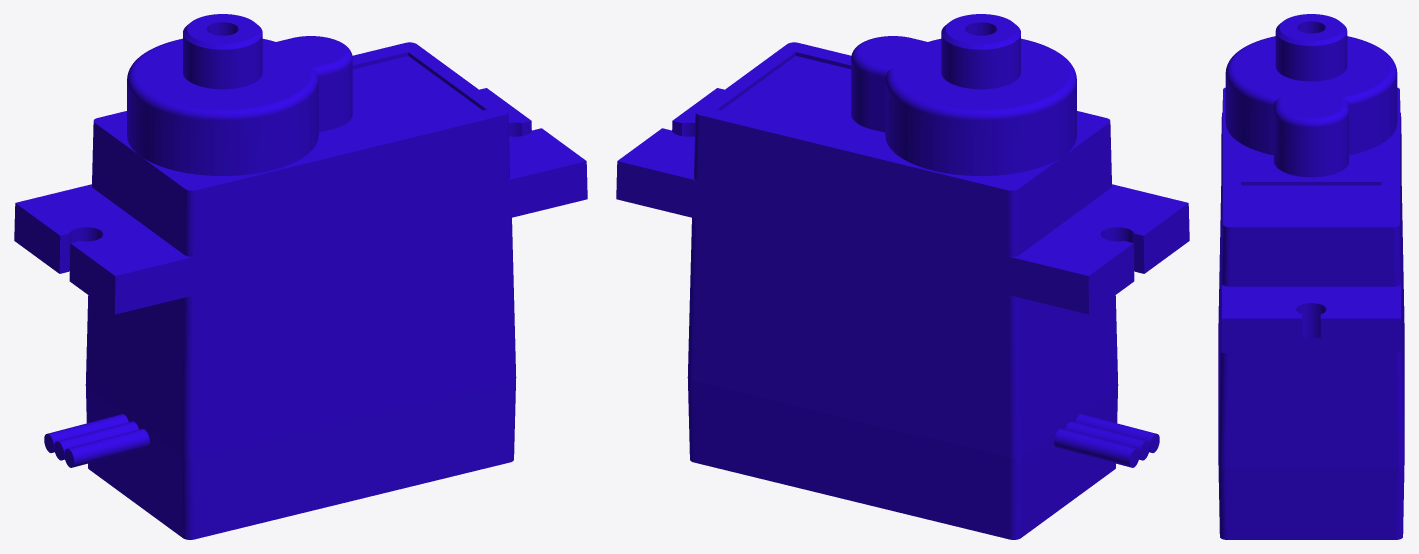
The model's file is servo.glb.
3 views of the same model, side by side, from view 1: azimuth 30°, elevation 25°; view 2: azimuth 150°, elevation 25°; view 3: azimuth 270°, elevation 25° (orthographic). The views are drawn at different scales.
Parts seen in each view (by area): view 1: 2051 Servo Tower-Pro-Sg90.Pk2; view 2: 2051 Servo Tower-Pro-Sg90.Pk2; view 3: 2051 Servo Tower-Pro-Sg90.Pk2.
Part boxes in pixels (<box>): 2051 Servo Tower-Pro-Sg90.Pk2: <box>14,14,587,539</box>; 2051 Servo Tower-Pro-Sg90.Pk2: <box>616,14,1189,539</box>; 2051 Servo Tower-Pro-Sg90.Pk2: <box>1218,14,1404,539</box>.
Bounding box in the file's own units: 32.88 × 29.8 × 12.37.
